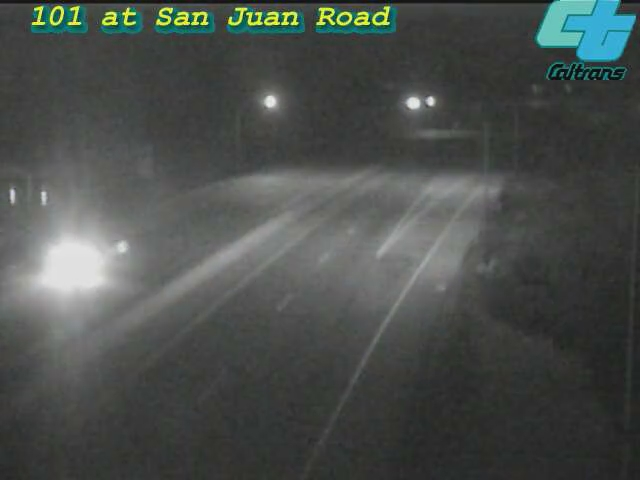vehicle: (29, 225, 109, 305)
